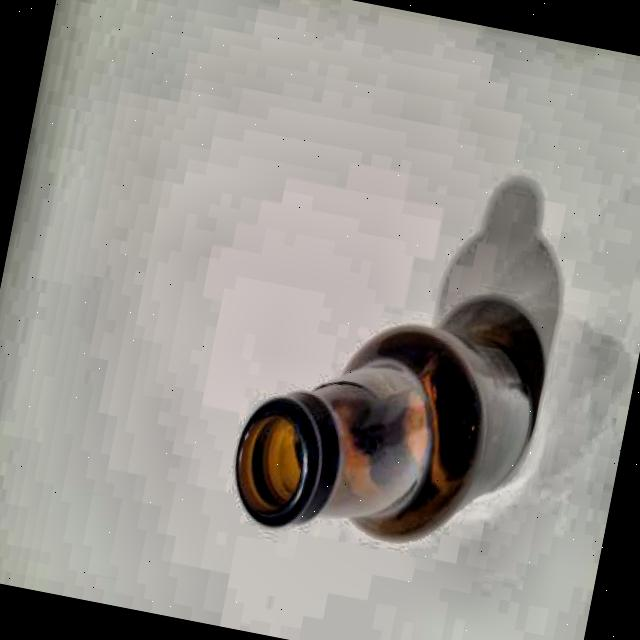glass: (222, 296, 554, 576)
